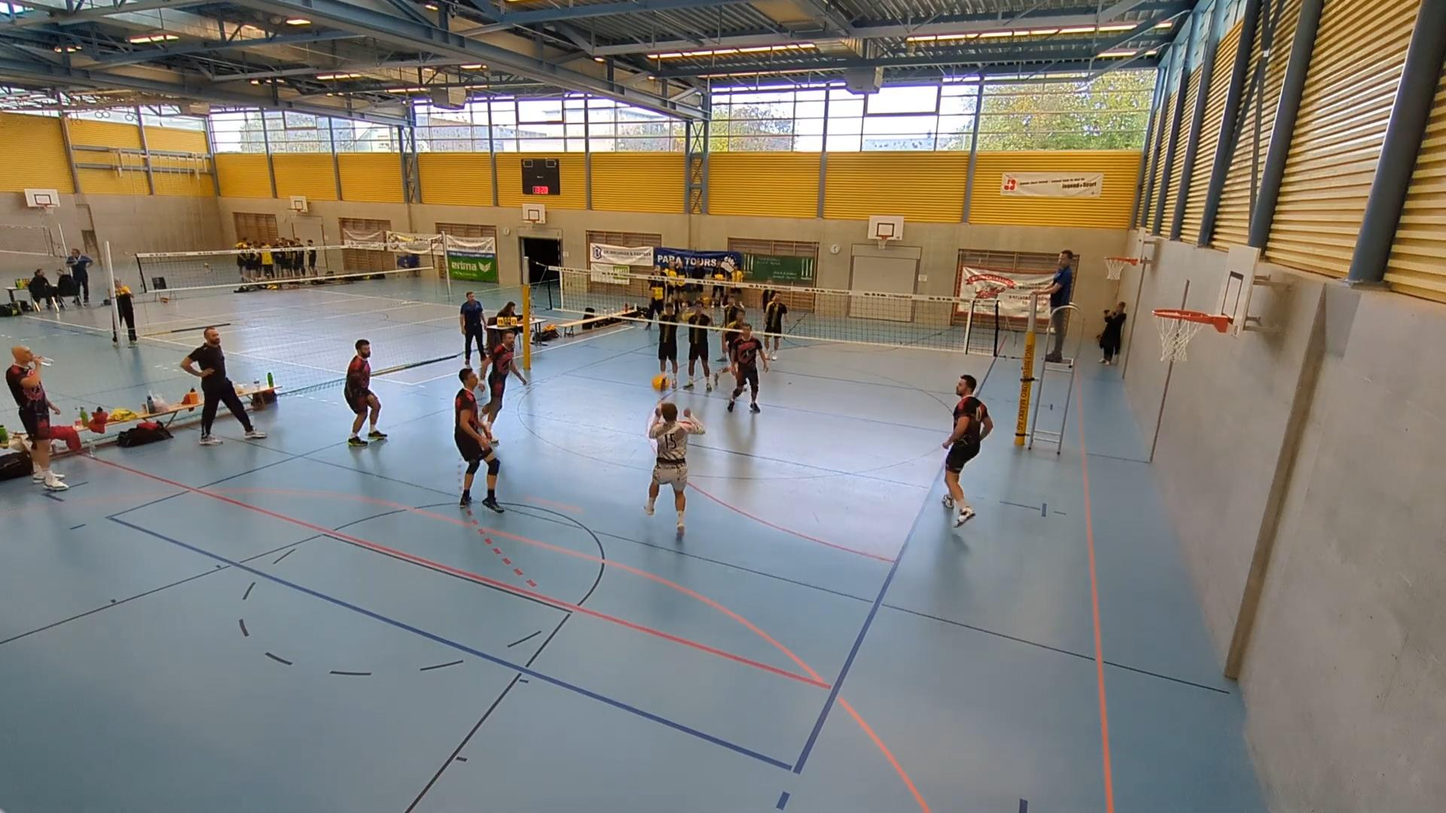ricezione: (648, 400, 707, 542)
